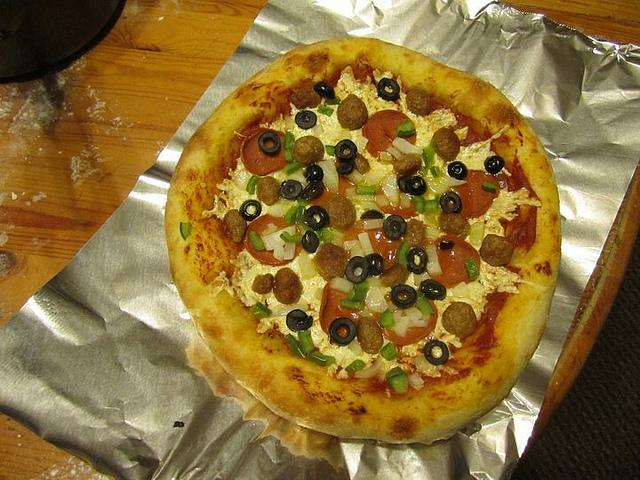onion: (261, 224, 296, 250), (316, 159, 339, 194), (380, 171, 400, 207), (364, 286, 390, 313), (299, 248, 319, 280), (392, 137, 424, 155), (426, 244, 442, 277), (330, 277, 354, 294), (358, 232, 374, 257), (408, 372, 426, 392), (394, 316, 410, 337), (344, 168, 365, 184), (363, 218, 385, 230), (272, 242, 285, 262), (350, 242, 365, 258), (374, 194, 390, 208), (284, 243, 296, 260), (408, 310, 422, 322)
